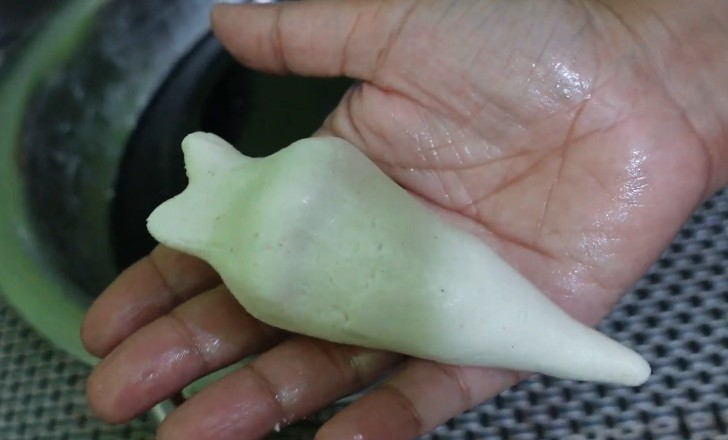yomari: (140, 129, 667, 391)
